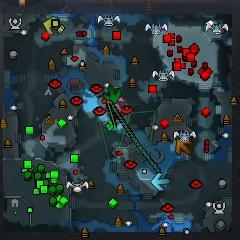x1: (115, 97, 125, 113)
x2: (44, 16, 58, 36)
x3: (150, 173, 171, 191)
x4: (104, 85, 121, 103)
x5: (176, 139, 192, 155)
